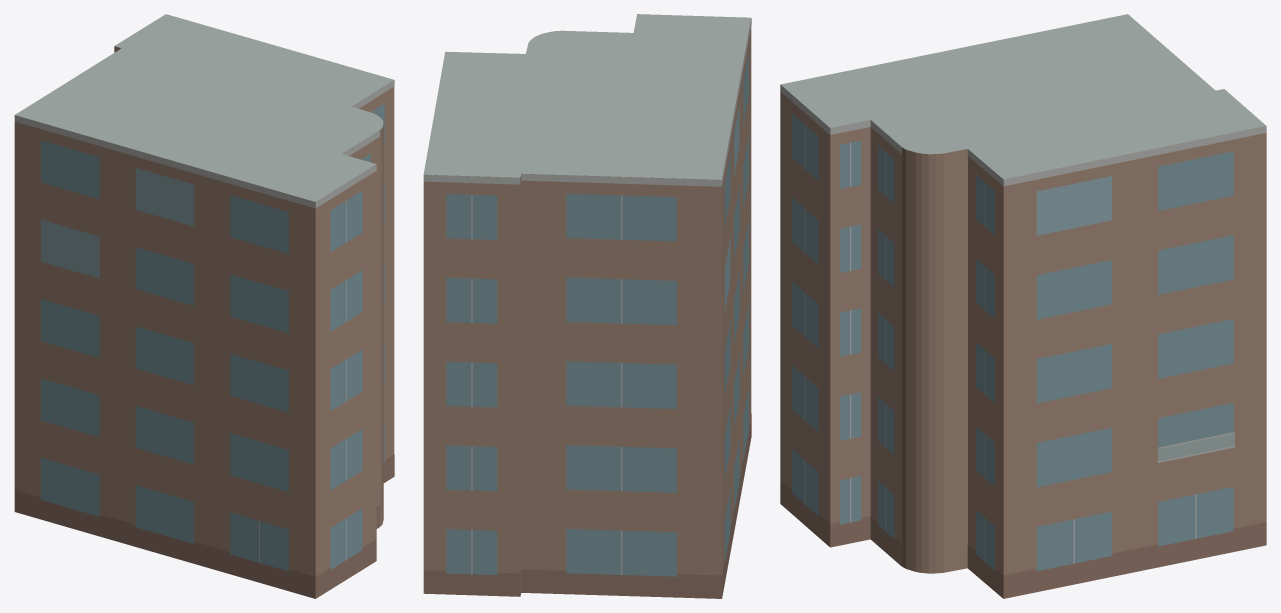
File: survey-upis-32939186.glb
3 views of the same model, side by side, from view 1: azimuth 30°, elevation 25°; view 2: azimuth 150°, elevation 25°; view 3: azimuth 270°, elevation 25° (orthographic). The views are drawn at different scales.
Parts seen in each view (by area): view 1: survey-upis-32939186.tmp; view 2: survey-upis-32939186.tmp; view 3: survey-upis-32939186.tmp.
Boxes of the visible parts, left/top/right/bottom form: survey-upis-32939186.tmp: left=14, top=14, right=394, bottom=598; survey-upis-32939186.tmp: left=423, top=14, right=751, bottom=598; survey-upis-32939186.tmp: left=780, top=14, right=1266, bottom=598.
Bounding box in the file's own units: 12.54 × 14.8 × 15.56.
